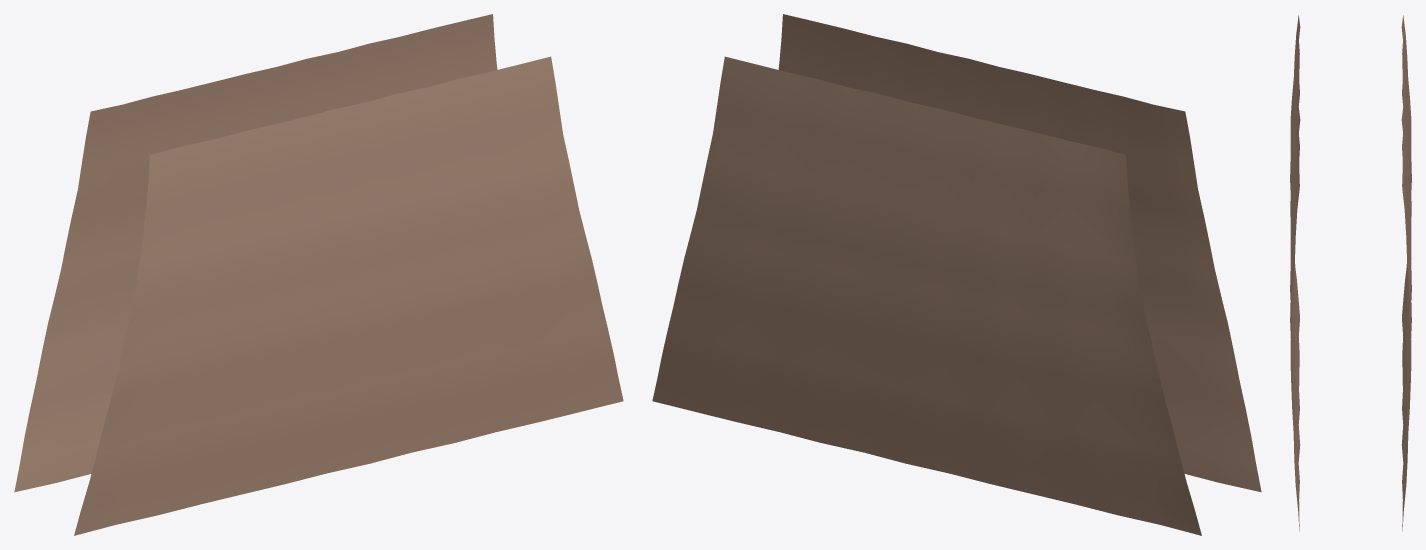
File: fallback.glb
3 views of the same model, side by side, from view 1: azimuth 30°, elevation 25°; view 2: azimuth 150°, elevation 25°; view 3: azimuth 270°, elevation 25° (orthographic). The views are drawn at different scales.
Parts seen in each view (by area): view 1: simulation:clean:manual-skirt-01.front, simulation:clean:manual-skirt-01.back; view 2: simulation:clean:manual-skirt-01.back, simulation:clean:manual-skirt-01.front; view 3: simulation:clean:manual-skirt-01.front, simulation:clean:manual-skirt-01.back.
Part boxes in pixels (x1=…): simulation:clean:manual-skirt-01.front: x1=74, y1=56, x2=623, y2=535; simulation:clean:manual-skirt-01.back: x1=14, y1=14, x2=497, y2=492; simulation:clean:manual-skirt-01.back: x1=652, y1=56, x2=1201, y2=535; simulation:clean:manual-skirt-01.front: x1=778, y1=14, x2=1261, y2=492; simulation:clean:manual-skirt-01.front: x1=1290, y1=15, x2=1300, y2=531; simulation:clean:manual-skirt-01.back: x1=1401, y1=15, x2=1411, y2=531.
Bounding box in the file's own units: 1.24 × 0.78 × 0.2707.
